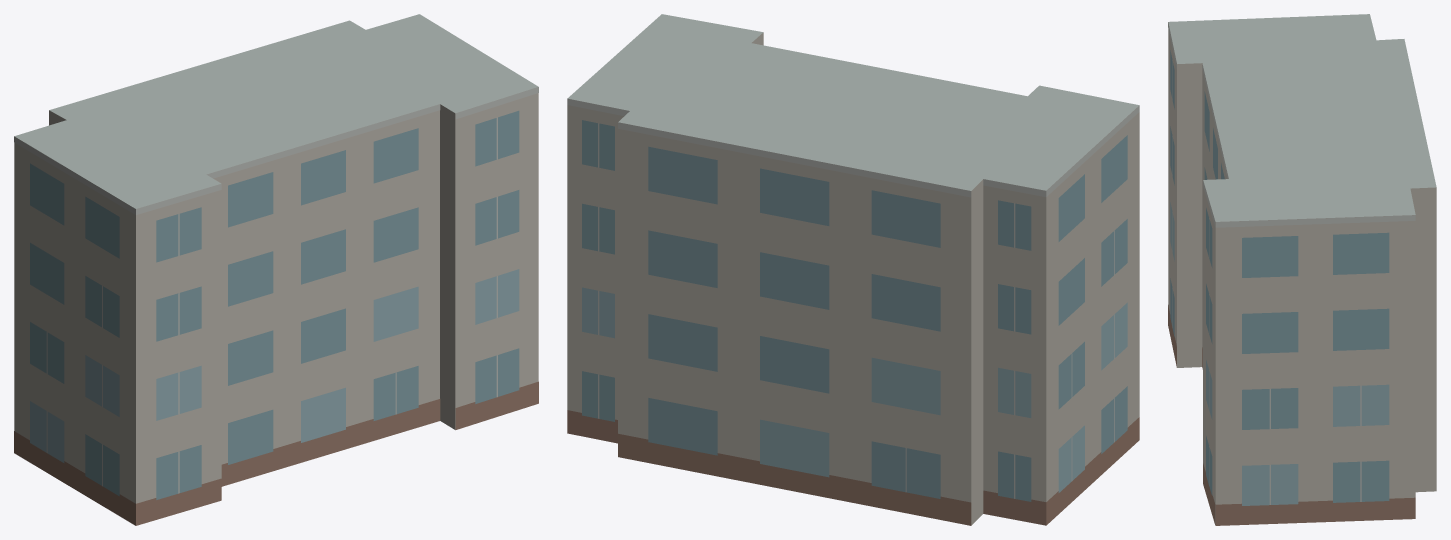
Rendered from survey-upis-32750146.glb.
3 renders of one model, left to right at view 1: azimuth 30°, elevation 25°; view 2: azimuth 150°, elevation 25°; view 3: azimuth 270°, elevation 25°, orthographic. The views are drawn at different scales.
Visible parts, largest first — view 1: survey-upis-32750146.tmp; view 2: survey-upis-32750146.tmp; view 3: survey-upis-32750146.tmp.
Part boxes in pixels (bbox=[...]): survey-upis-32750146.tmp: bbox=[14, 14, 538, 525]; survey-upis-32750146.tmp: bbox=[567, 14, 1139, 525]; survey-upis-32750146.tmp: bbox=[1168, 14, 1436, 525].
Bounding box in the file's own units: 18.5 × 12.6 × 10.1.
